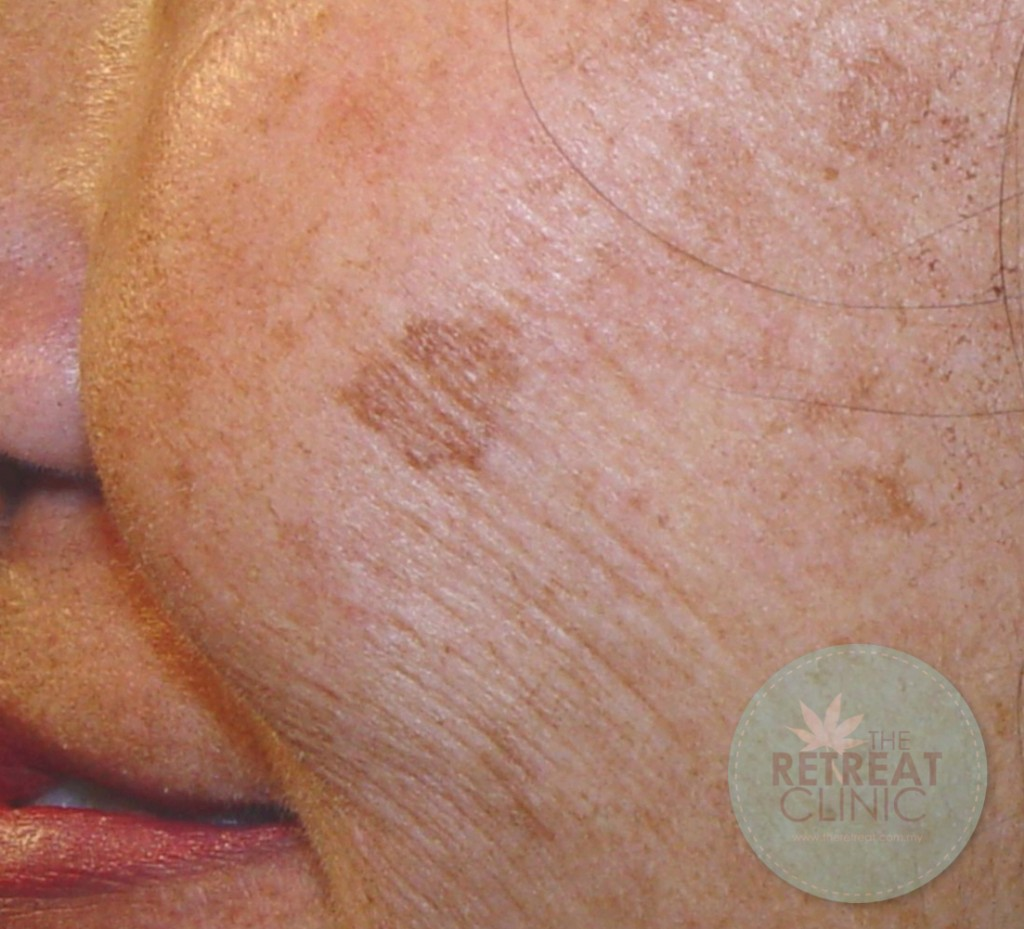DARK_SPOTS: (332, 288, 551, 503), (845, 448, 950, 547), (921, 93, 997, 186), (813, 145, 858, 205)
